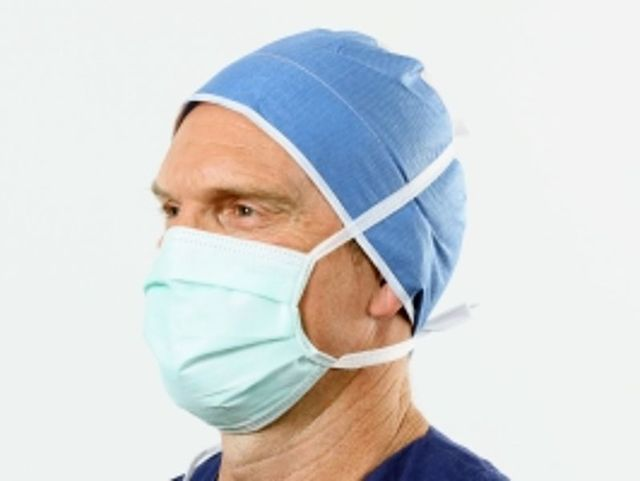mask: (143, 238, 301, 407)
